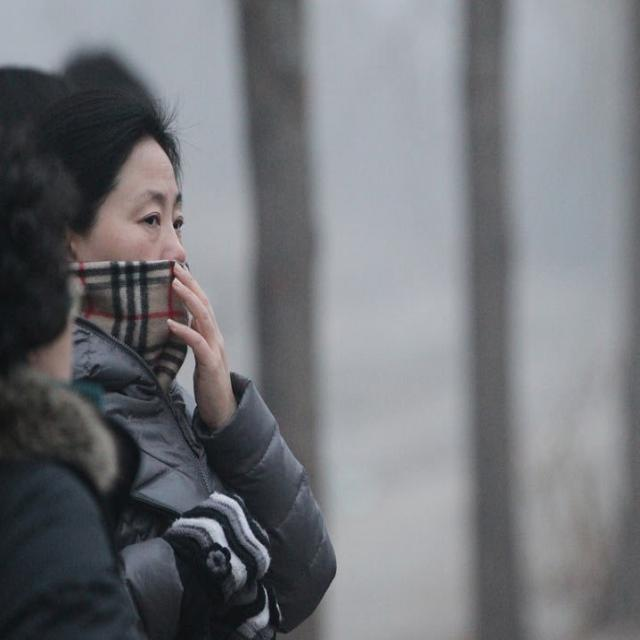mask: (73, 133, 189, 365)
